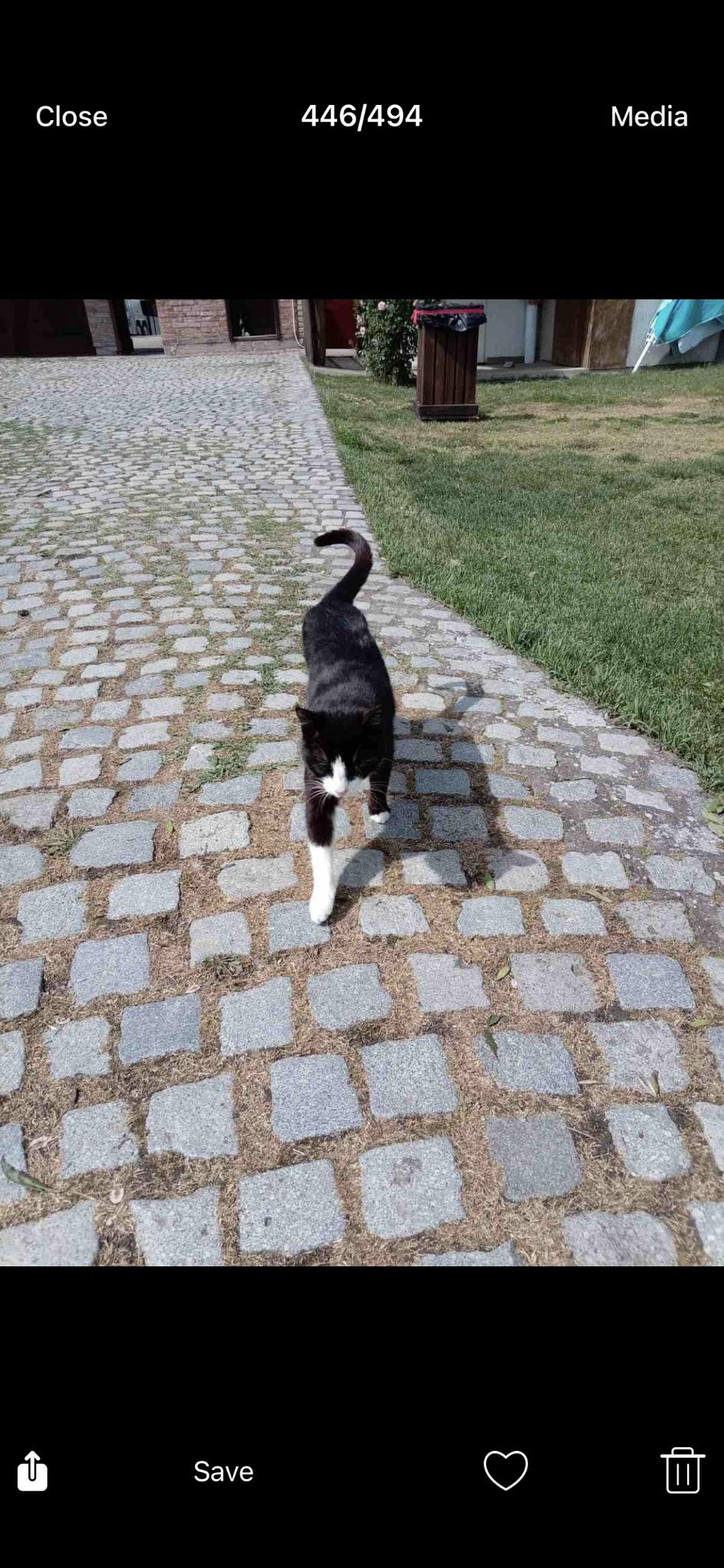macka: (291, 529, 397, 922)
